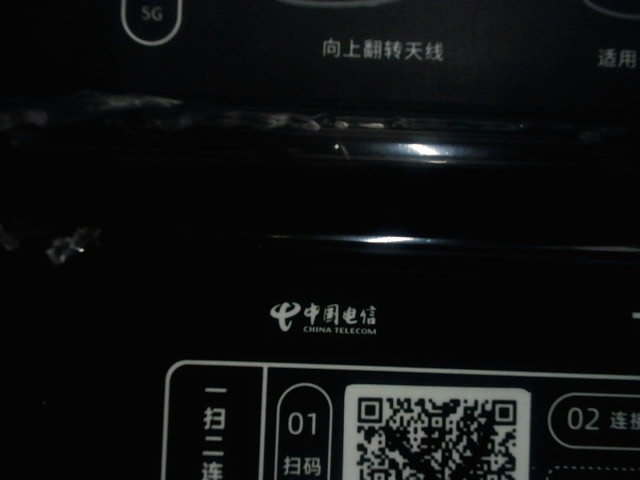AB_ChinaTelecom: (256, 293, 382, 341)
